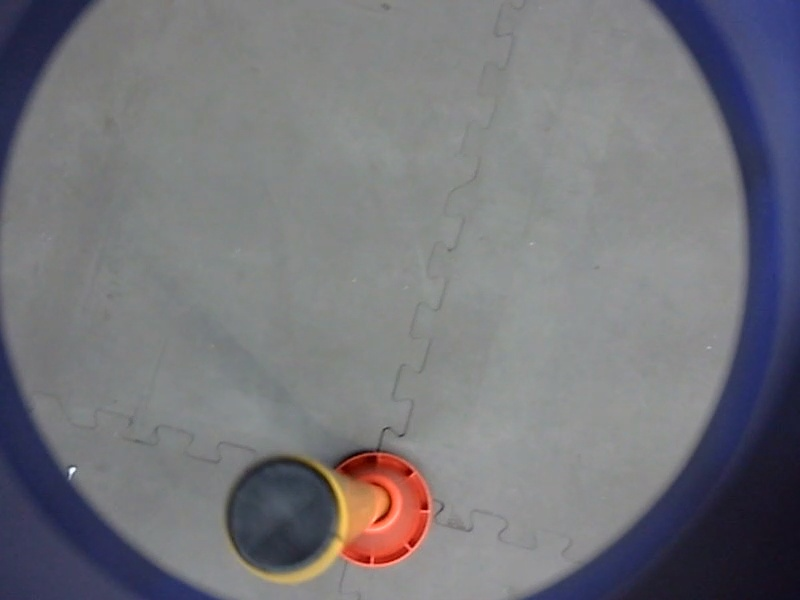tip: (213, 447, 359, 588)
